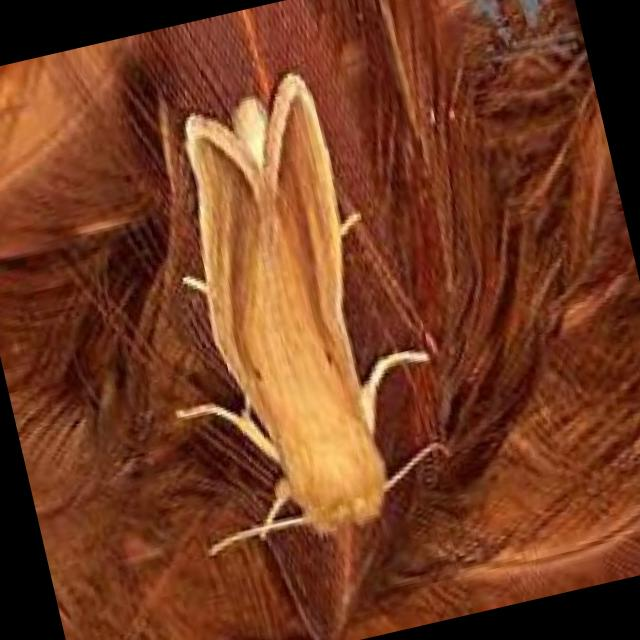stem-borer: (154, 59, 432, 566)
